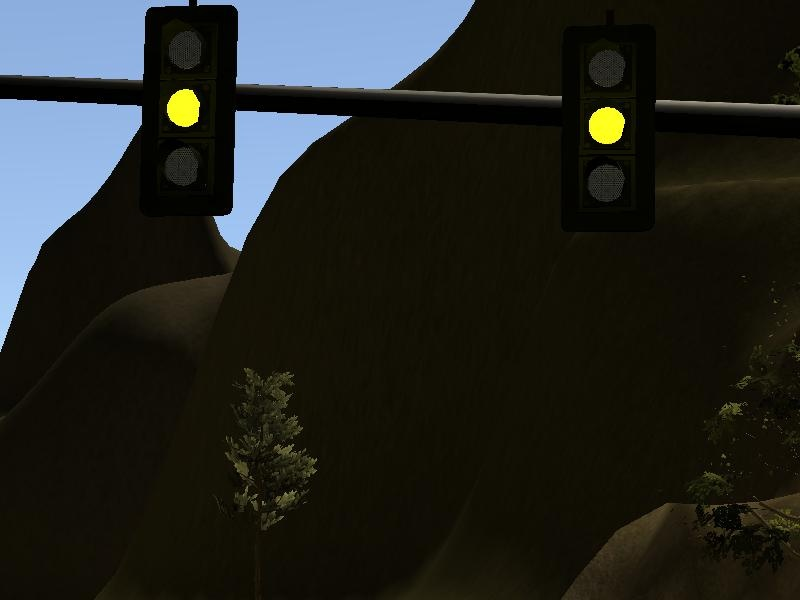yellow: (551, 16, 666, 242), (133, 1, 244, 223)
